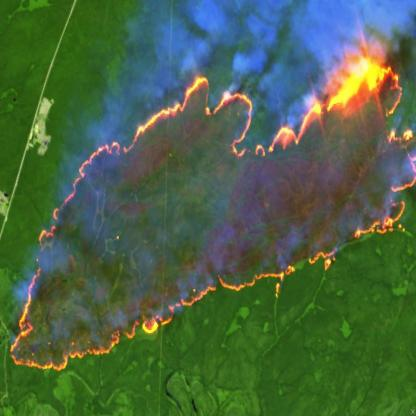fire: (6, 43, 416, 376)
